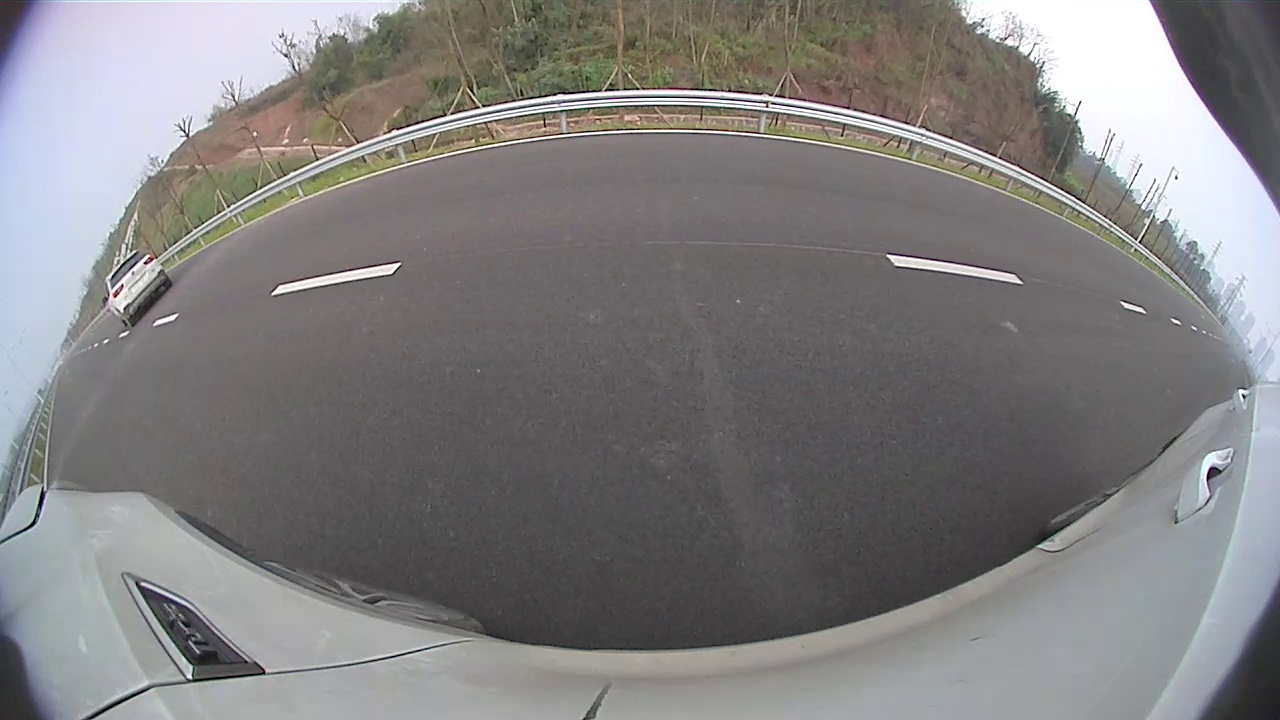car: (483, 153, 562, 206)
front: (552, 177, 561, 192)
rear: (534, 178, 545, 199)
